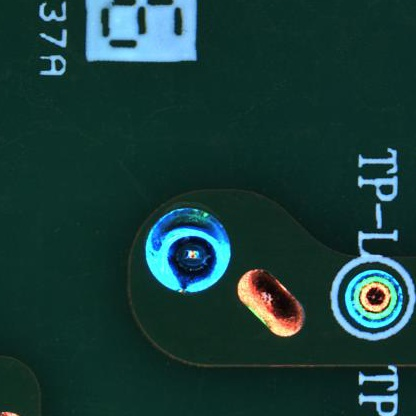spot: (140, 204, 233, 301), (338, 264, 405, 330)
